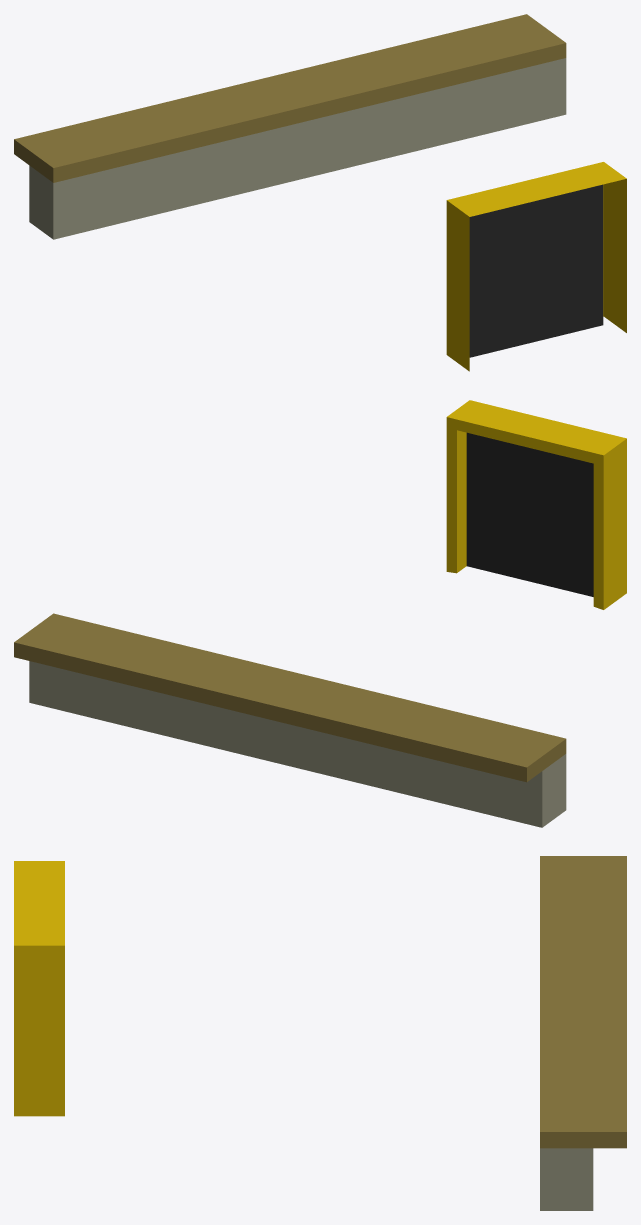
The model's file is TheatreFuns.fbx.
3 views of the same model, one above another, from view 1: azimuth 30°, elevation 25°; view 2: azimuth 150°, elevation 25°; view 3: azimuth 270°, elevation 25° (orthographic). The views are drawn at different scales.
Visible parts, largest first — view 1: Reception, Door; view 2: Reception, Door; view 3: Reception, Door.
Boxes of the visible parts, <box> form: Reception: <box>14,14,566,239</box>; Door: <box>446,162,626,371</box>; Reception: <box>14,613,566,827</box>; Door: <box>446,400,626,609</box>; Reception: <box>540,856,626,1210</box>; Door: <box>14,861,64,1116</box>.
Bounding box in the file's own units: 750 × 216 × 704.
